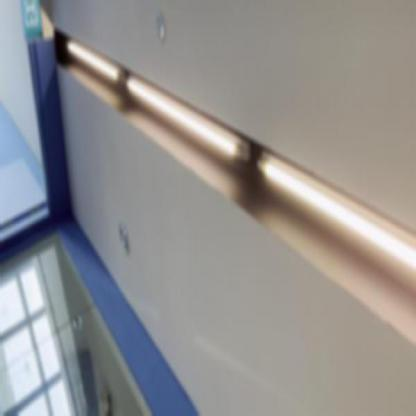light_on: (257, 141, 416, 282), (125, 67, 244, 190), (60, 34, 126, 87)
